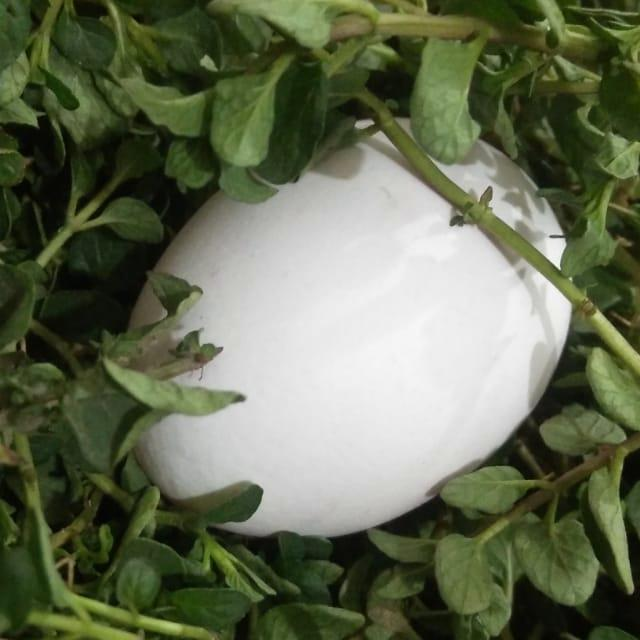egg: (116, 113, 576, 540)
